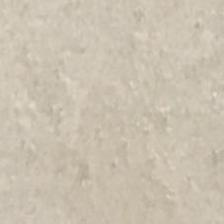Non_Crack: (13, 3, 224, 224)
